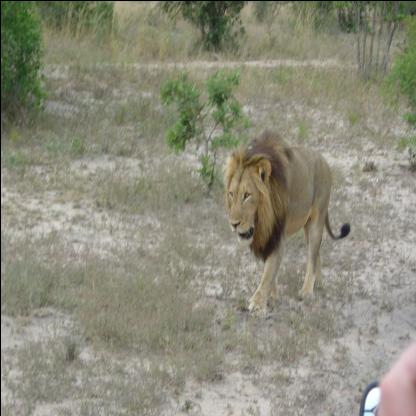lion: (218, 140, 278, 252)
